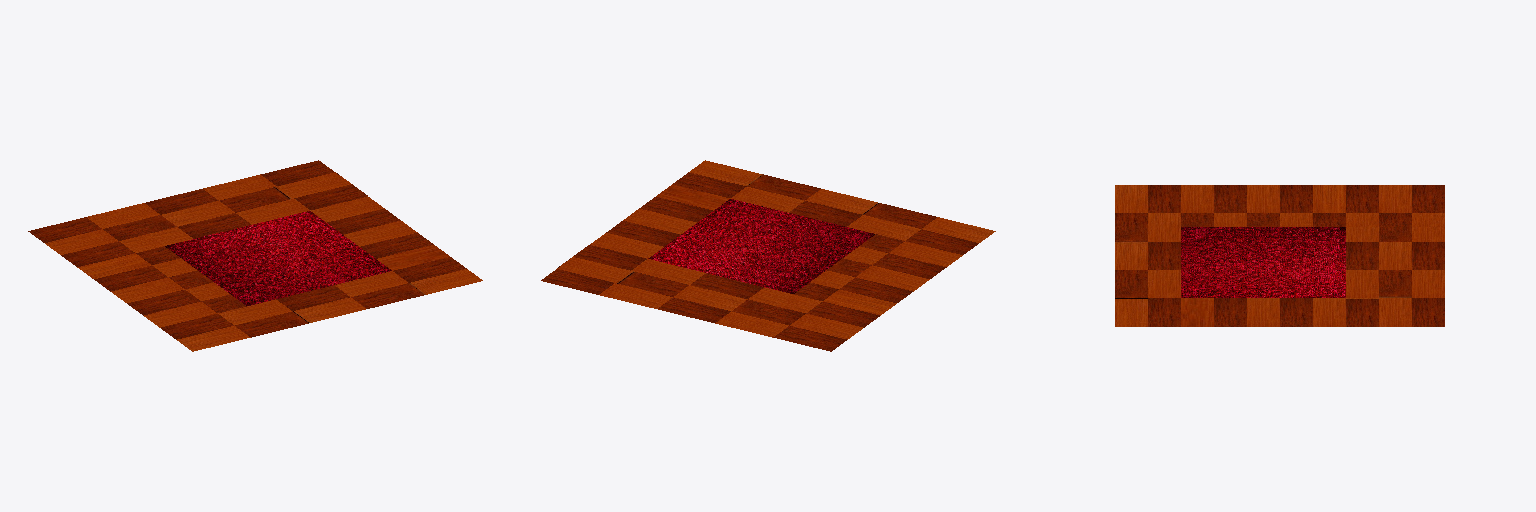
The picture shows the model from 3 angles: view 1: azimuth 30°, elevation 25°; view 2: azimuth 150°, elevation 25°; view 3: azimuth 270°, elevation 25°; orthographic projection.
Visible parts, largest first — view 1: pPlane1; view 2: pPlane1; view 3: pPlane1.
Part boxes in pixels (x1,y1,x2,y2): pPlane1: (28,160,482,351); pPlane1: (541,160,995,351); pPlane1: (1115,185,1444,326).
Bounding box in the file's own units: 14.25 × 0 × 13.95.
2 materials, 2 textured.